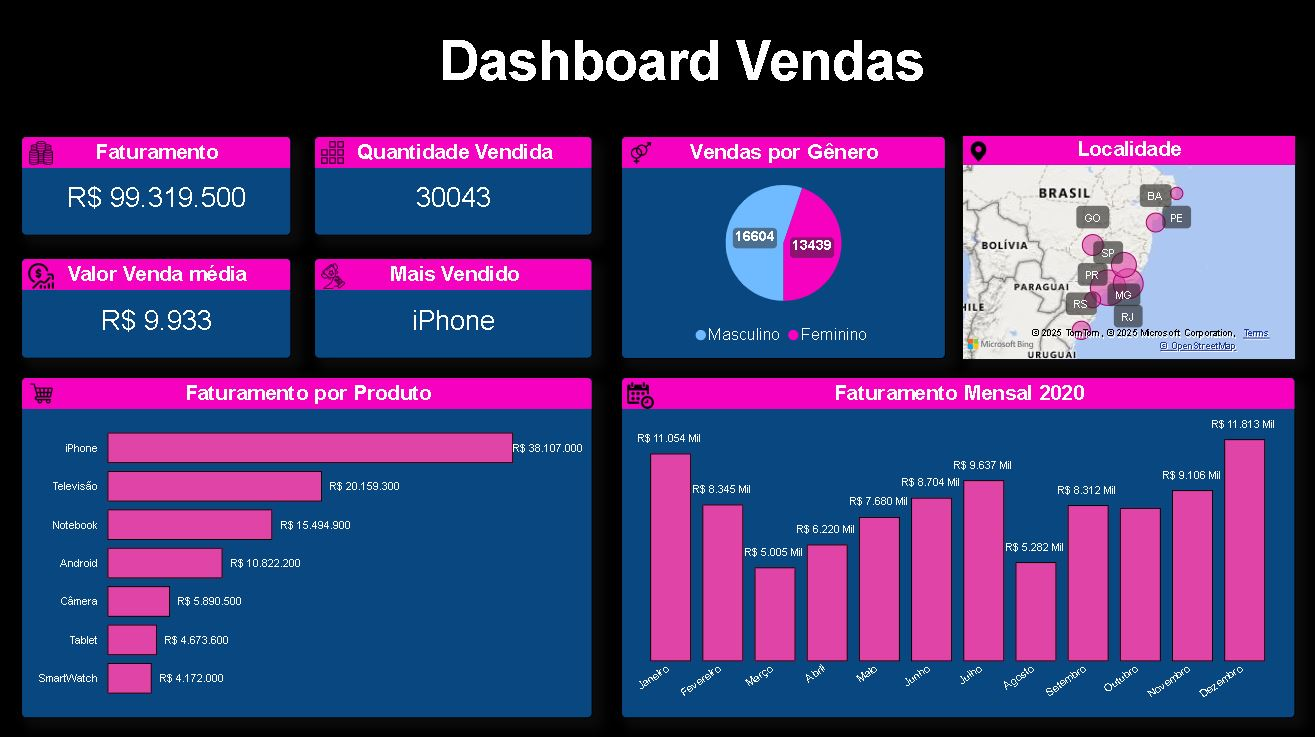

What the dashboard file says about the page in this screenshot:
{"tool":"powerbi","page":{"name":"Página 1","canvas":[1280,720],"ordinal":0},"visuals":[{"type":"card","title":"Faturamento","fields":{"Values":["Sum(Vendas.Faturamento)"]},"box":[21.4,133.3,262.6,97.3],"z":0},{"type":"card","title":"Quantidade Vendida","fields":{"Values":["Sum(Vendas.Qtd Vendida)"]},"box":[306.4,133.3,271.4,97.3],"z":1000},{"type":"card","title":"Mais Vendido","fields":{"Values":["Min(Vendas.Produto)"]},"box":[306.4,251.9,271.4,98.2],"z":2000},{"type":"clusteredBarChart","title":"Faturamento por Produto","fields":{"Y":["Sum(Vendas.Faturamento)"],"Category":["Vendas.Produto"]},"box":[21.4,367.7,556.4,331.7],"z":3000},{"type":"columnChart","title":"Faturamento Mensal 2020","fields":{"Category":["Vendas.Nome do Mês"],"Y":["Sum(Vendas.Faturamento)"]},"box":[605,367.7,655.6,331.7],"z":4000},{"type":"pieChart","title":"Vendas por Gênero","fields":{"Category":["Vendas.Gênero"],"Y":["Sum(Vendas.Qtd Vendida)"]},"box":[605,133.3,316.1,216.9],"z":5000},{"type":"card","title":"Valor Venda média","fields":{"Values":["Avg(Vendas.Faturamento)"]},"box":[21.4,251.9,262.6,98.2],"z":6000},{"type":"textbox","box":[375.4,23.3,577.8,88.5],"z":7000},{"type":"map","title":"Localidade","fields":{"Category":["Vendas.Estado"],"Size":["Sum(Vendas.Faturamento)"]},"box":[937.6,133.3,322.9,216.9],"z":8000},{"type":"image","box":[605,367.7,38.9,36],"z":9000},{"type":"image","box":[608.9,133.3,31.1,32.1],"z":10000},{"type":"image","box":[935.7,130.3,34,35],"z":10001},{"type":"image","box":[306.4,133.3,36,32.1],"z":10003},{"type":"image","box":[21.4,367.7,39.9,32.1],"z":10004},{"type":"image","box":[21.4,133.3,38.9,33.1],"z":10005},{"type":"image","box":[21.4,251.9,38.9,35],"z":10006},{"type":"image","box":[304.4,251.9,40.9,35],"z":10007}]}

Visuals, with their boxes in screenshot pixels (x1, y1, x2, y2), scaled from the page's 1280x720 canvas onto the 1315x737 screenshot:
"Faturamento" card: bbox=(22, 136, 292, 236)
"Quantidade Vendida" card: bbox=(315, 136, 594, 236)
"Mais Vendido" card: bbox=(315, 258, 594, 358)
"Faturamento por Produto" clusteredBarChart: bbox=(22, 376, 594, 716)
"Faturamento Mensal 2020" columnChart: bbox=(622, 376, 1295, 716)
"Vendas por Gênero" pieChart: bbox=(622, 136, 946, 358)
"Valor Venda média" card: bbox=(22, 258, 292, 358)
textbox: bbox=(386, 24, 979, 114)
"Localidade" map: bbox=(963, 136, 1295, 358)
image: bbox=(622, 376, 662, 413)
image: bbox=(626, 136, 658, 169)
image: bbox=(961, 133, 996, 169)
image: bbox=(315, 136, 352, 169)
image: bbox=(22, 376, 63, 409)
image: bbox=(22, 136, 62, 170)
image: bbox=(22, 258, 62, 294)
image: bbox=(313, 258, 355, 294)
